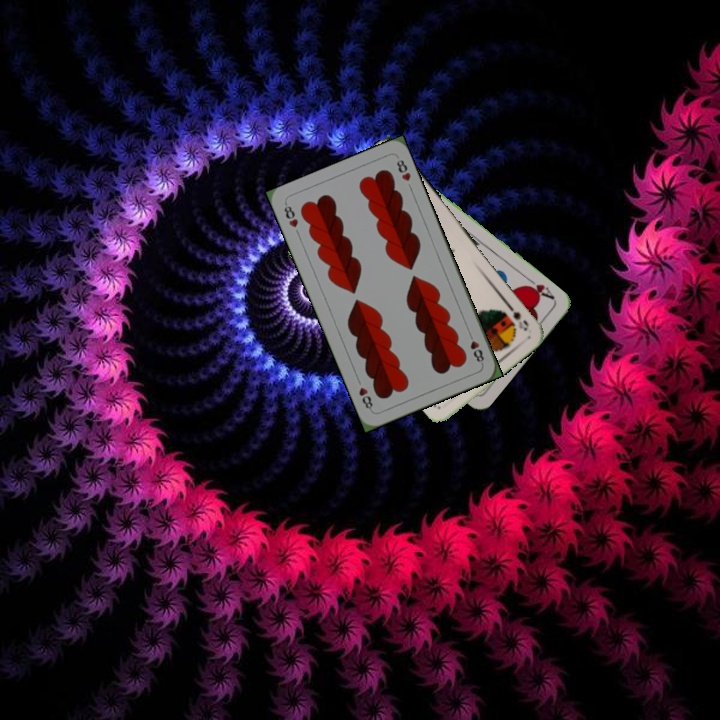H8: (464, 328, 487, 366), (280, 199, 301, 230)
HA: (521, 273, 557, 302)
SO: (502, 299, 532, 334)
